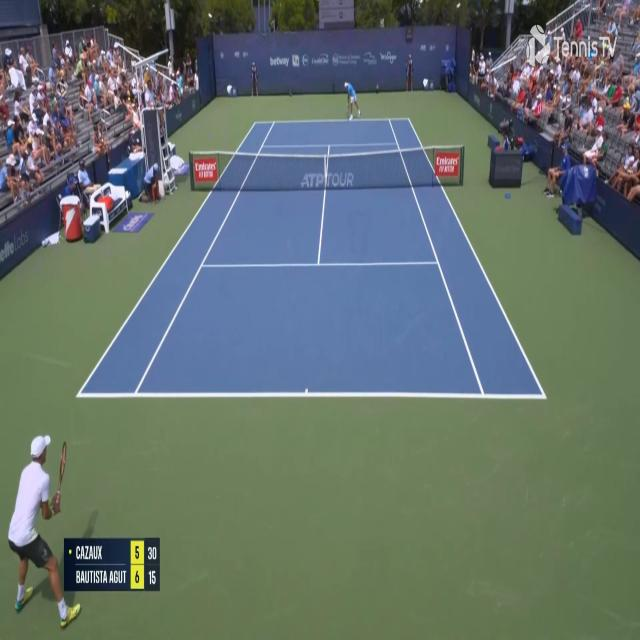tennis-player: (5, 429, 84, 634), (342, 76, 362, 122)
